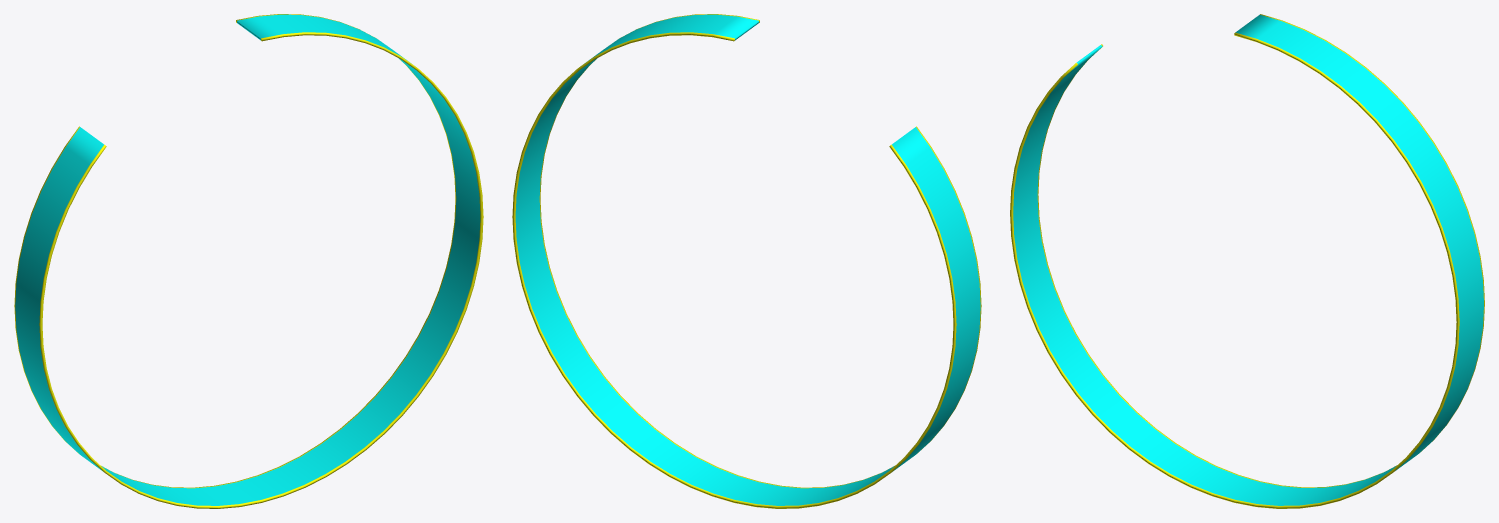
The model's file is TouchNote13.fbx.
The picture shows the model from 3 angles, left to right: view 1: azimuth 30°, elevation 25°; view 2: azimuth 150°, elevation 25°; view 3: azimuth 330°, elevation 25°; orthographic projection.
Visible parts, largest first — view 1: TouchNote13; view 2: TouchNote13; view 3: TouchNote13.
Boxes of the visible parts, x1,y1,x2,y2 form: TouchNote13: [14, 14, 483, 508]; TouchNote13: [512, 14, 981, 508]; TouchNote13: [1010, 14, 1484, 508].
Size of the model in its own units: 198 by 20 by 198.
